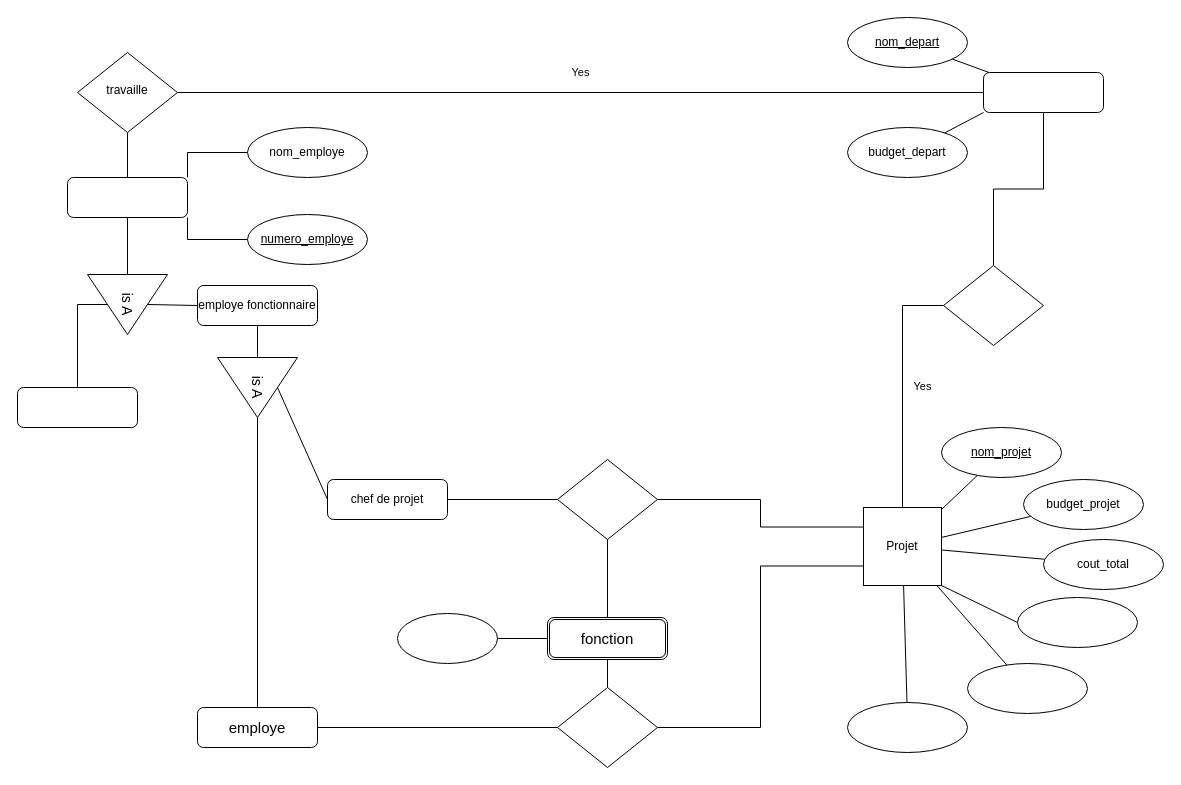
This 1181x785 diagram has some shape labels left out. Here are the shapes that lost their labels. From the top down, the box of each, then its label:
(982, 72, 1104, 112): Departement
(66, 176, 188, 218): employé
(942, 264, 1044, 346): controle
(16, 386, 138, 428): expert
(556, 458, 658, 540): dirige
(396, 612, 498, 664): taux horaire
(556, 686, 658, 768): participe
